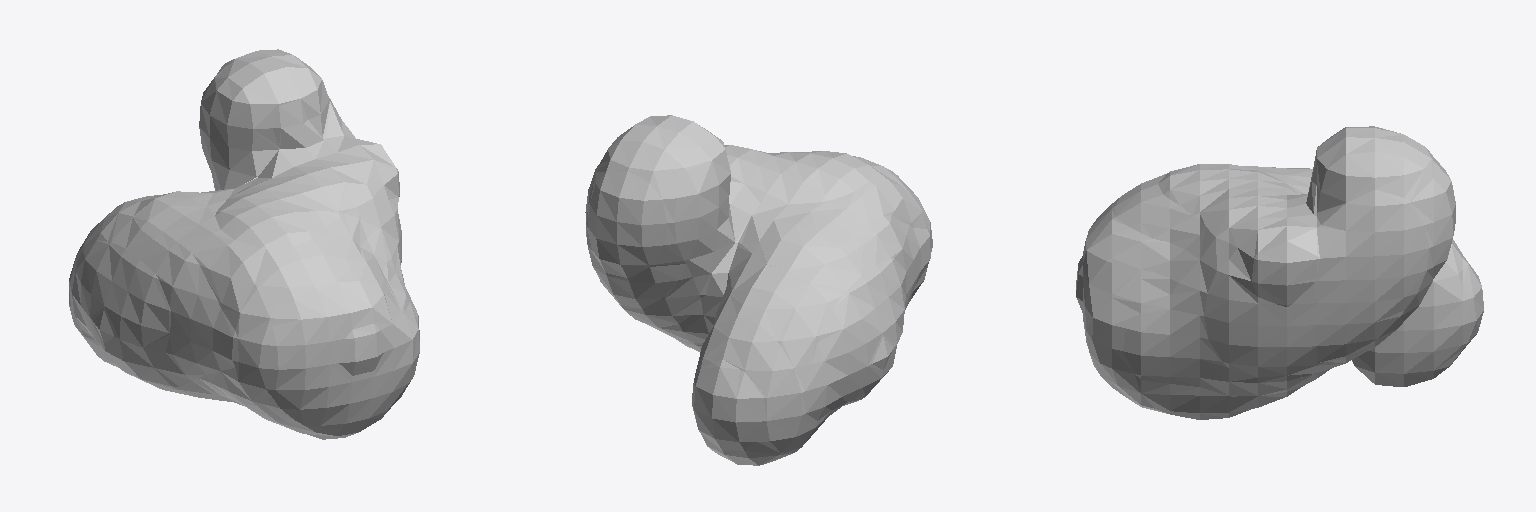
The model's file is 1p71_prot_cms.obj.
3 views of the same model, side by side, from view 1: azimuth 30°, elevation 25°; view 2: azimuth 150°, elevation 25°; view 3: azimuth 270°, elevation 25° (orthographic).
Size of the model in its own units: 57.97 by 59.84 by 74.12.